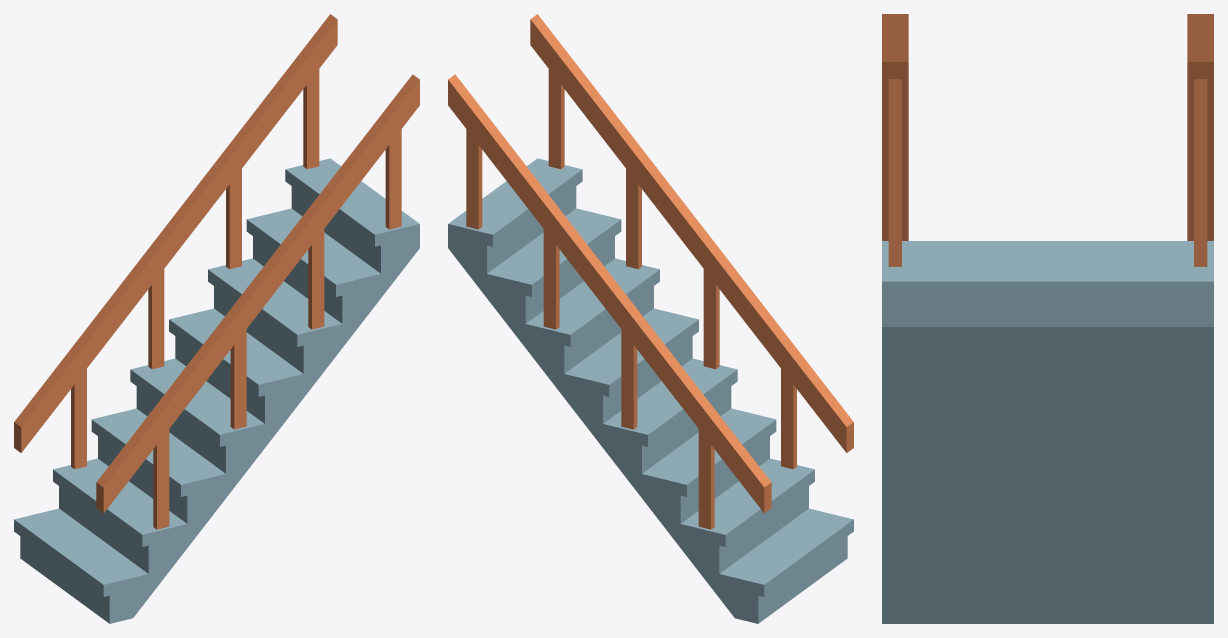
Rendered from stairsStoneHandrail.obj.
3 renders of one model, left to right at view 1: azimuth 30°, elevation 25°; view 2: azimuth 150°, elevation 25°; view 3: azimuth 270°, elevation 25°, orthographic. The views are drawn at different scales.
Parts seen in each view (by area): view 1: stairsStoneHandrail, rail; view 2: stairsStoneHandrail, rail; view 3: stairsStoneHandrail, rail.
Part boxes in pixels (x1=…): stairsStoneHandrail: x1=14, y1=158, x2=419, y2=623; rail: x1=14, y1=14, x2=419, y2=529; stairsStoneHandrail: x1=448, y1=158, x2=853, y2=623; rail: x1=448, y1=14, x2=853, y2=529; stairsStoneHandrail: x1=882, y1=241, x2=1213, y2=623; rail: x1=882, y1=14, x2=1213, y2=266.
Size of the model in its own units: 1.02 by 1.45 by 0.5.
